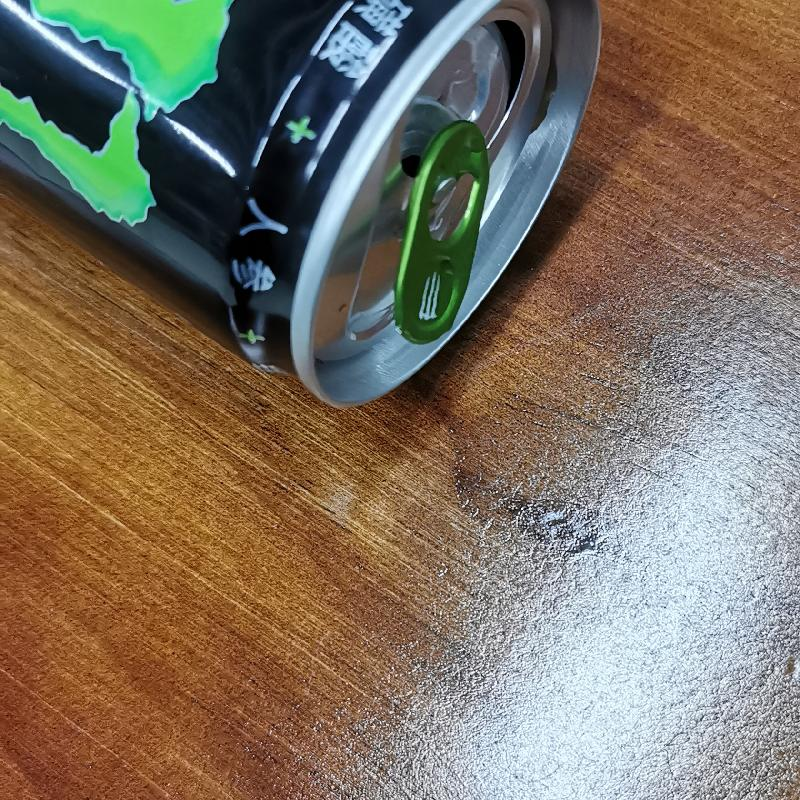cans: (0, 0, 611, 417)
